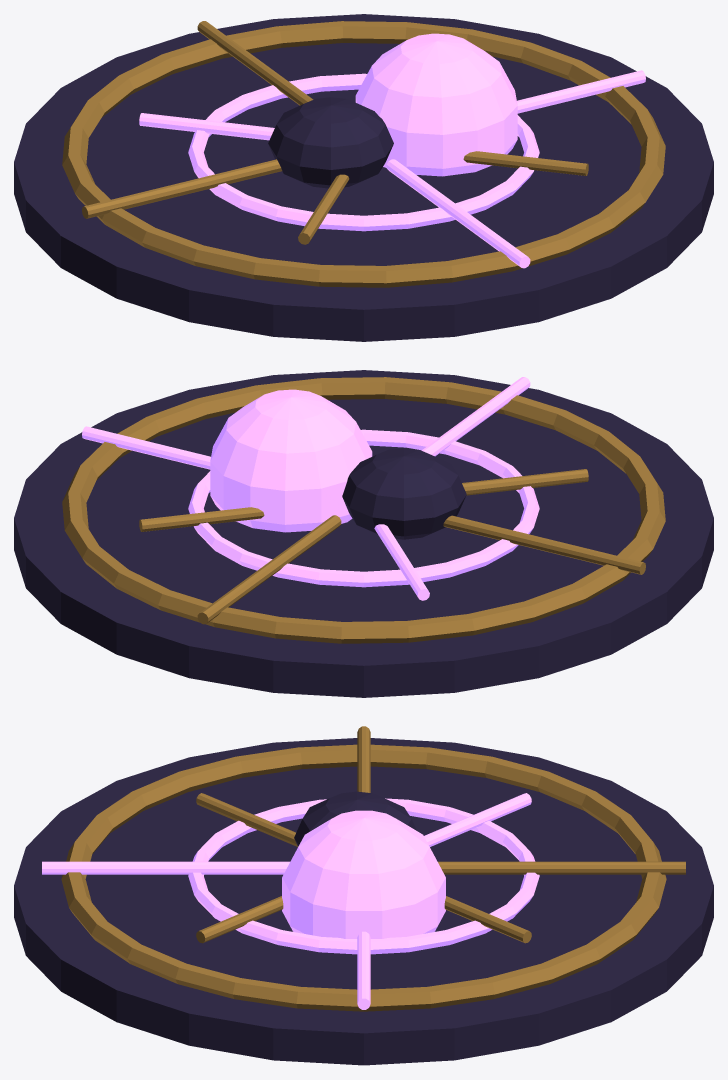
The model's file is runtime.glb.
The picture shows the model from 3 angles, top to bottom: view 1: azimuth 30°, elevation 25°; view 2: azimuth 150°, elevation 25°; view 3: azimuth 270°, elevation 25°; orthographic projection.
Visible parts, largest first — view 1: aetherion-astronomical-medallion-v06_field_nocol, aetherion-astronomical-medallion-v06_outer_meridian_nocol, aetherion-astronomical-medallion-v06_sun_nocol, aetherion-astronomical-medallion-v06_inner_meridian_nocol, aetherion-astronomical-medallion-v06_moon_nocol, aetherion-astronomical-medallion-v06_bearing_04_nocol, aetherion-astronomical-medallion-v06_bearing_06_nocol, aetherion-astronomical-medallion-v06_bearing_03_nocol, aetherion-astronomical-medallion-v06_bearing_02_nocol, aetherion-astronomical-medallion-v06_bearing_00_nocol, aetherion-astronomical-medallion-v06_bearing_07_nocol, aetherion-astronomical-medallion-v06_bearing_05_nocol; view 2: aetherion-astronomical-medallion-v06_field_nocol, aetherion-astronomical-medallion-v06_outer_meridian_nocol, aetherion-astronomical-medallion-v06_sun_nocol, aetherion-astronomical-medallion-v06_inner_meridian_nocol, aetherion-astronomical-medallion-v06_moon_nocol, aetherion-astronomical-medallion-v06_bearing_04_nocol, aetherion-astronomical-medallion-v06_bearing_02_nocol, aetherion-astronomical-medallion-v06_bearing_00_nocol, aetherion-astronomical-medallion-v06_bearing_05_nocol, aetherion-astronomical-medallion-v06_bearing_06_nocol, aetherion-astronomical-medallion-v06_bearing_01_nocol, aetherion-astronomical-medallion-v06_bearing_03_nocol; view 3: aetherion-astronomical-medallion-v06_field_nocol, aetherion-astronomical-medallion-v06_outer_meridian_nocol, aetherion-astronomical-medallion-v06_sun_nocol, aetherion-astronomical-medallion-v06_inner_meridian_nocol, aetherion-astronomical-medallion-v06_bearing_02_nocol, aetherion-astronomical-medallion-v06_bearing_06_nocol, aetherion-astronomical-medallion-v06_moon_nocol, aetherion-astronomical-medallion-v06_bearing_03_nocol, aetherion-astronomical-medallion-v06_bearing_05_nocol, aetherion-astronomical-medallion-v06_bearing_01_nocol, aetherion-astronomical-medallion-v06_bearing_07_nocol, aetherion-astronomical-medallion-v06_bearing_00_nocol (+1 smaller).
Part boxes in pixels (box(x1,y1,x2,y2)): aetherion-astronomical-medallion-v06_field_nocol: box(14, 14, 713, 341); aetherion-astronomical-medallion-v06_outer_meridian_nocol: box(62, 21, 665, 287); aetherion-astronomical-medallion-v06_sun_nocol: box(355, 33, 517, 176); aetherion-astronomical-medallion-v06_inner_meridian_nocol: box(188, 73, 539, 231); aetherion-astronomical-medallion-v06_moon_nocol: box(268, 97, 393, 188); aetherion-astronomical-medallion-v06_bearing_04_nocol: box(82, 159, 282, 218); aetherion-astronomical-medallion-v06_bearing_06_nocol: box(386, 159, 530, 268); aetherion-astronomical-medallion-v06_bearing_03_nocol: box(139, 113, 274, 140); aetherion-astronomical-medallion-v06_bearing_02_nocol: box(197, 21, 313, 105); aetherion-astronomical-medallion-v06_bearing_00_nocol: box(517, 70, 645, 113); aetherion-astronomical-medallion-v06_bearing_07_nocol: box(463, 151, 588, 175); aetherion-astronomical-medallion-v06_bearing_05_nocol: box(298, 174, 349, 244); aetherion-astronomical-medallion-v06_field_nocol: box(14, 370, 713, 697); aetherion-astronomical-medallion-v06_outer_meridian_nocol: box(62, 377, 665, 643); aetherion-astronomical-medallion-v06_sun_nocol: box(210, 389, 372, 532); aetherion-astronomical-medallion-v06_inner_meridian_nocol: box(188, 429, 539, 587); aetherion-astronomical-medallion-v06_moon_nocol: box(342, 448, 466, 539); aetherion-astronomical-medallion-v06_bearing_04_nocol: box(443, 515, 645, 574); aetherion-astronomical-medallion-v06_bearing_02_nocol: box(197, 515, 341, 624); aetherion-astronomical-medallion-v06_bearing_00_nocol: box(82, 426, 210, 469); aetherion-astronomical-medallion-v06_bearing_05_nocol: box(462, 469, 588, 495); aetherion-astronomical-medallion-v06_bearing_06_nocol: box(421, 377, 530, 456); aetherion-astronomical-medallion-v06_bearing_01_nocol: box(139, 507, 264, 531); aetherion-astronomical-medallion-v06_bearing_03_nocol: box(374, 524, 429, 600); aetherion-astronomical-medallion-v06_field_nocol: box(14, 738, 713, 1065); aetherion-astronomical-medallion-v06_outer_meridian_nocol: box(61, 744, 666, 1011); aetherion-astronomical-medallion-v06_sun_nocol: box(282, 810, 445, 938); aetherion-astronomical-medallion-v06_inner_meridian_nocol: box(188, 798, 539, 954); aetherion-astronomical-medallion-v06_bearing_02_nocol: box(438, 861, 685, 874); aetherion-astronomical-medallion-v06_bearing_06_nocol: box(42, 861, 289, 874); aetherion-astronomical-medallion-v06_moon_nocol: box(294, 791, 416, 846); aetherion-astronomical-medallion-v06_bearing_03_nocol: box(424, 793, 531, 846); aetherion-astronomical-medallion-v06_bearing_05_nocol: box(196, 793, 297, 846); aetherion-astronomical-medallion-v06_bearing_01_nocol: box(444, 896, 531, 943); aetherion-astronomical-medallion-v06_bearing_07_nocol: box(196, 896, 283, 943); aetherion-astronomical-medallion-v06_bearing_00_nocol: box(357, 931, 370, 1009).
Size of the model in its own units: 8.06 by 1.94 by 8.06.
